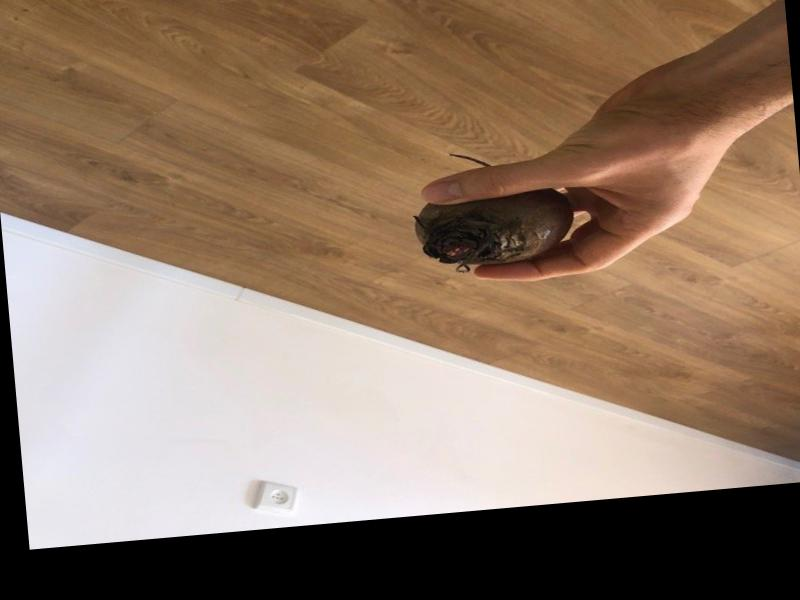Beet: (407, 144, 575, 273)
